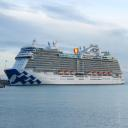cruises: (4, 38, 126, 87)
